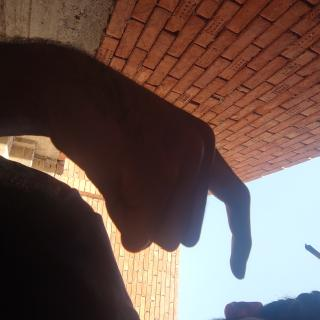RAA: (30, 82, 209, 320)
